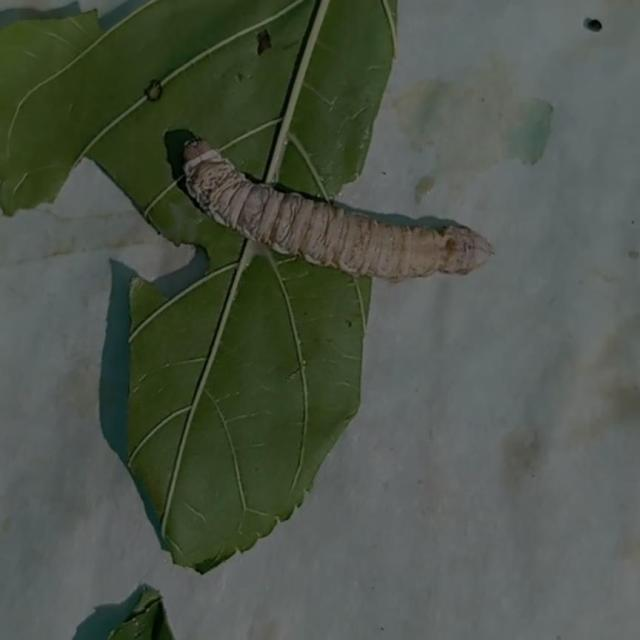Grasserie: (167, 118, 506, 305)
